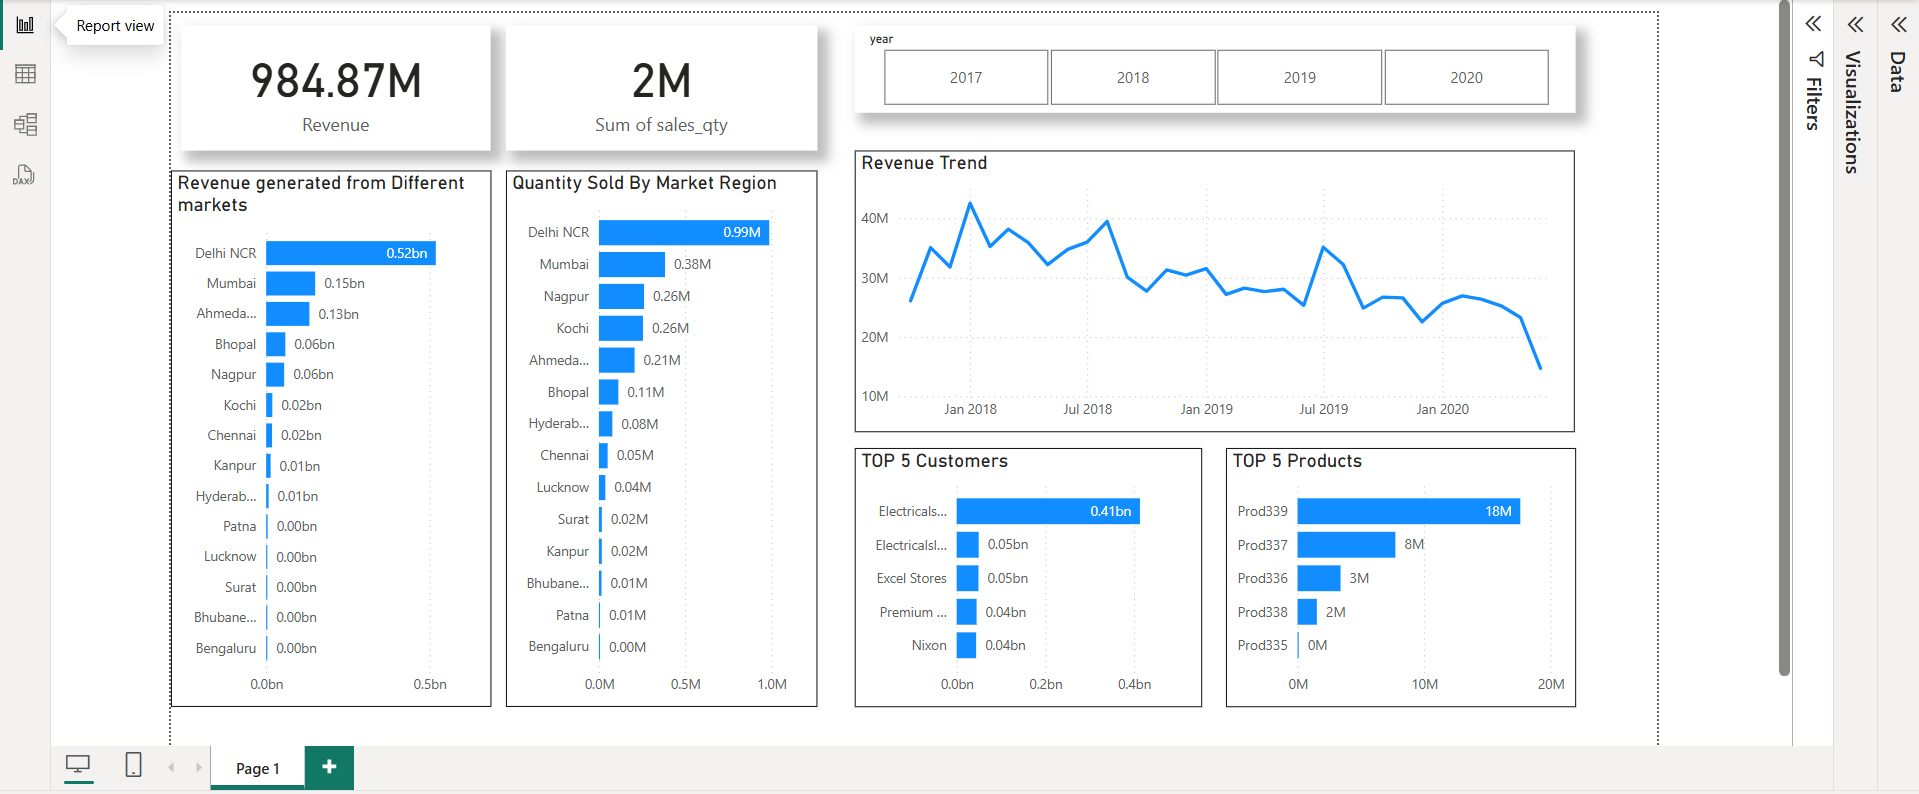

This screenshot's page, from the dashboard's own definition file:
{"tool":"powerbi","page":{"name":"Page 1","canvas":[1321,720],"ordinal":0},"visuals":[{"type":"card","fields":{"Values":["BaseMeasure.Revenue"]},"box":[8.9,11.1,275.6,111.1],"z":0},{"type":"card","fields":{"Values":["sales transactions.sales_qty"]},"box":[297.8,11.1,276.7,111.1],"z":1},{"type":"clusteredBarChart","title":"Revenue generated from Different markets","fields":{"Category":["sales markets.markets_name"],"Y":["sales transactions.Normalised_currency"]},"box":[0,140,284.4,476.7],"z":2},{"type":"clusteredBarChart","title":"Quantity Sold By Market Region","fields":{"Category":["sales markets.markets_name"],"Y":["sales transactions.sales_qty"]},"box":[297.8,140,276.7,476.7],"z":3},{"type":"lineChart","title":"Revenue Trend","fields":{"Category":["sales date.cy_date.Variation.Date Hierarchy.Year","sales date.cy_date.Variation.Date Hierarchy.Quarter","sales date.cy_date.Variation.Date Hierarchy.Month","sales date.cy_date.Variation.Date Hierarchy.Day"],"Y":["sales transactions.Normalised_currency"]},"box":[607.8,122.2,640,250],"z":6},{"type":"slicer","fields":{"Values":["sales date.year"]},"box":[607.8,11.1,641.1,77.8],"z":7},{"type":"clusteredBarChart","title":"TOP 5 Customers","fields":{"Category":["sales customers.custmer_name"],"Y":["sales transactions.Normalised_currency"]},"box":[607.8,386.7,308.9,230],"z":9},{"type":"clusteredBarChart","title":"TOP 5 Products","fields":{"Category":["sales transactions.product_code"],"Y":["sales transactions.Normalised_currency"]},"box":[937.8,386.7,311.1,230],"z":10}]}

Visuals, with their boxes in screenshot pixels (x1, y1, x2, y2):
card - BaseMeasure.Revenue: bbox=(175, 3, 486, 128)
card - sales transactions.sales_qty: bbox=(501, 3, 813, 128)
"Revenue generated from Different markets" clusteredBarChart: bbox=(165, 148, 486, 686)
"Quantity Sold By Market Region" clusteredBarChart: bbox=(501, 148, 813, 686)
"Revenue Trend" lineChart: bbox=(851, 128, 1573, 410)
slicer - sales date.year: bbox=(851, 3, 1574, 90)
"TOP 5 Customers" clusteredBarChart: bbox=(851, 426, 1199, 686)
"TOP 5 Products" clusteredBarChart: bbox=(1223, 426, 1574, 686)
